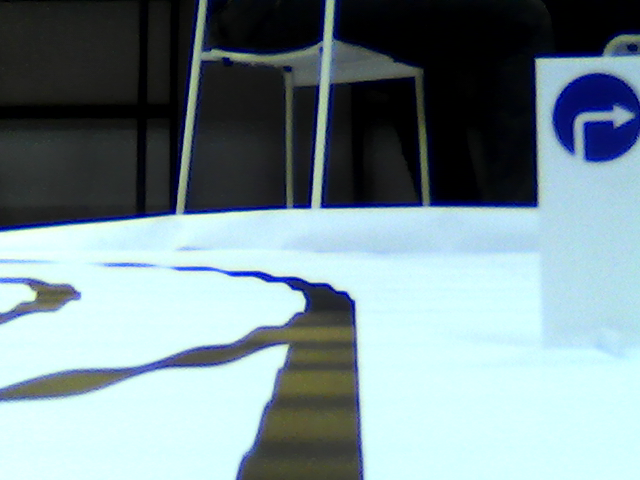Right: (548, 71, 640, 162)
